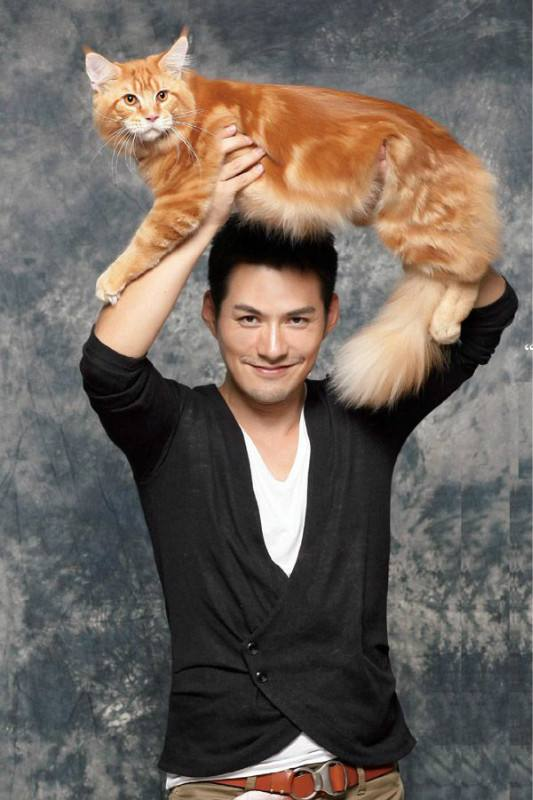person: (85, 85, 461, 743)
